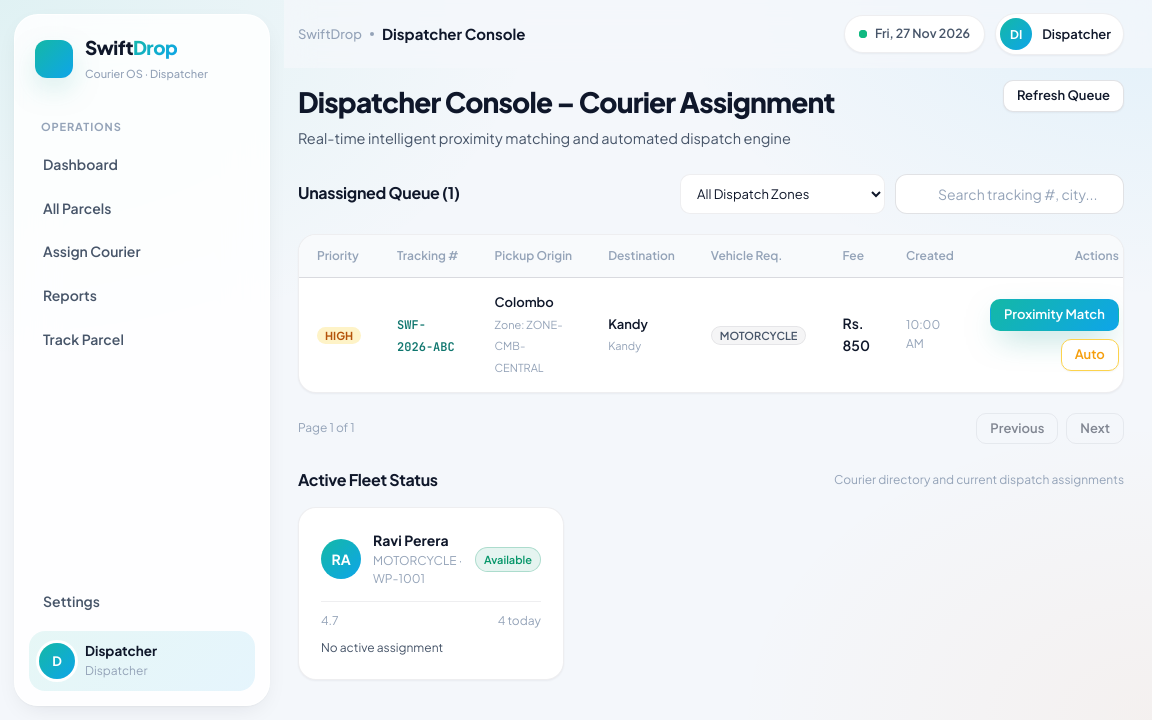
Test case: AssignCourier fleet › reports unauthorized assignment without creating a local success
Click the button "Proximity Match".
click(1054, 315)  # box [990, 300, 1119, 331]
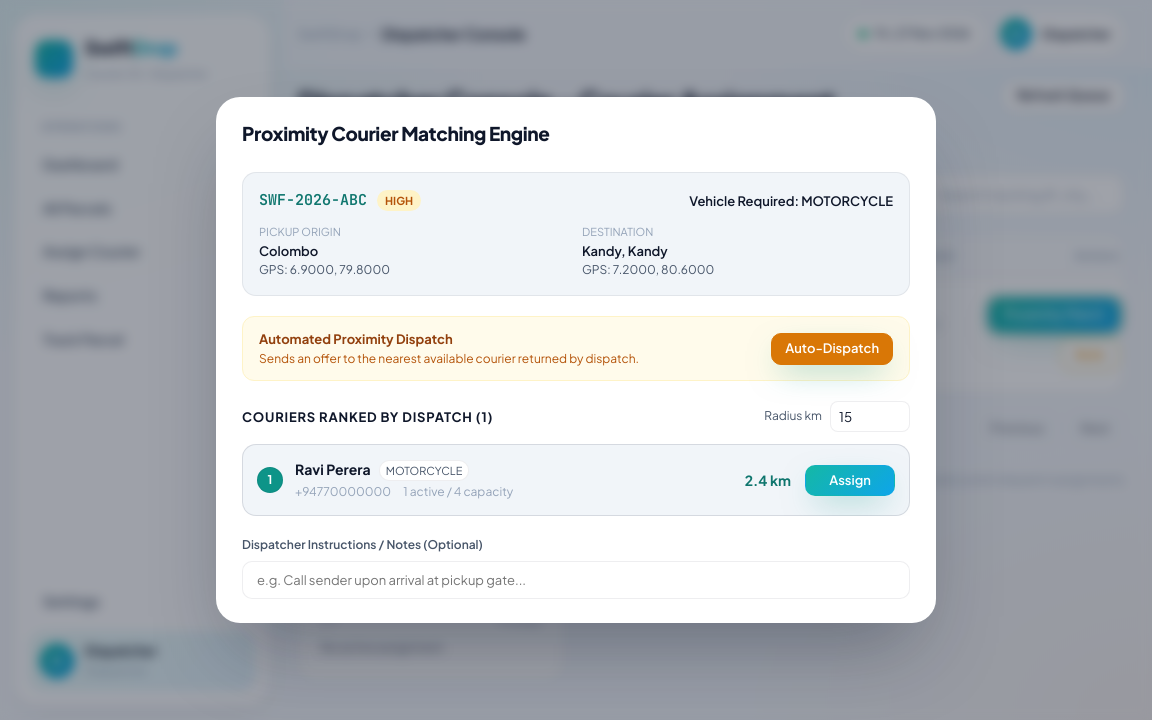
Click the button "Assign".
click(850, 480)  # box [805, 464, 895, 496]
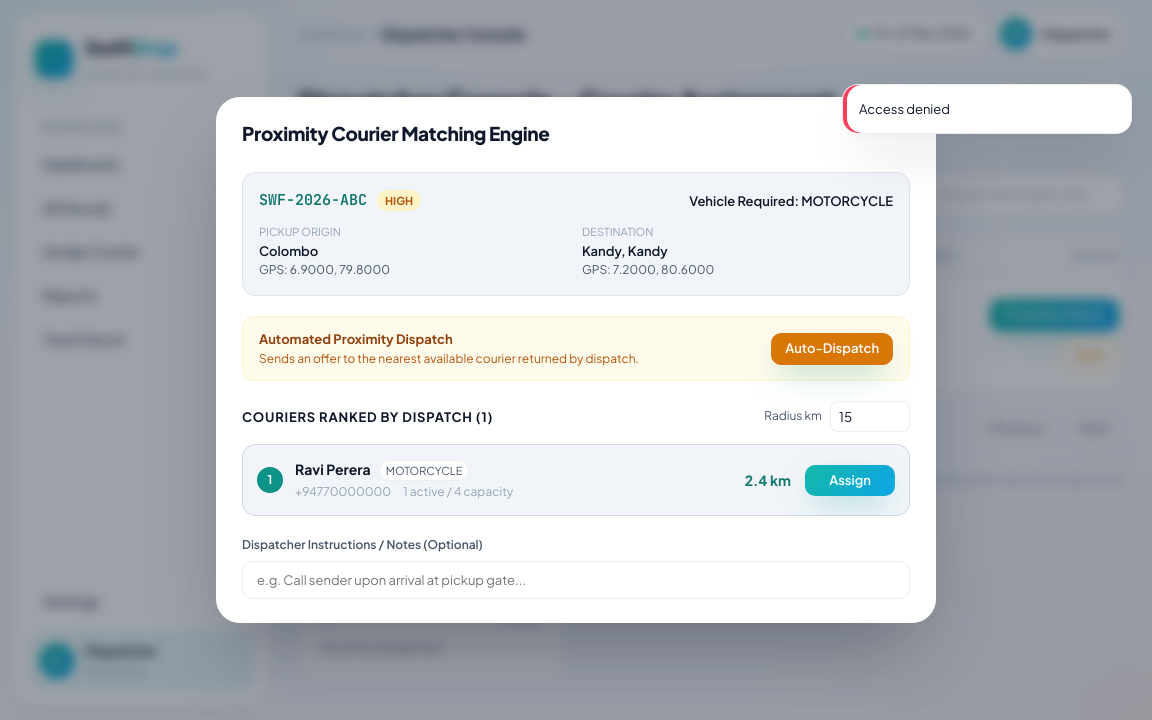
Expected: the text "SWF-2026-ABC" next to "Zone:" is shown, [397, 317, 455, 355]
Expected: the text "Access denied" is shown, [859, 101, 950, 117]
